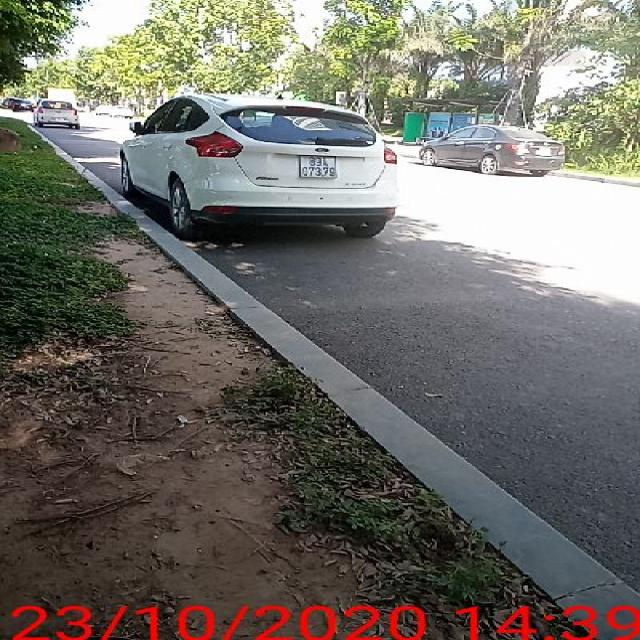biensoxehoi: (298, 154, 343, 180)
